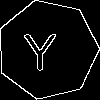Y: (22, 25, 57, 71)
